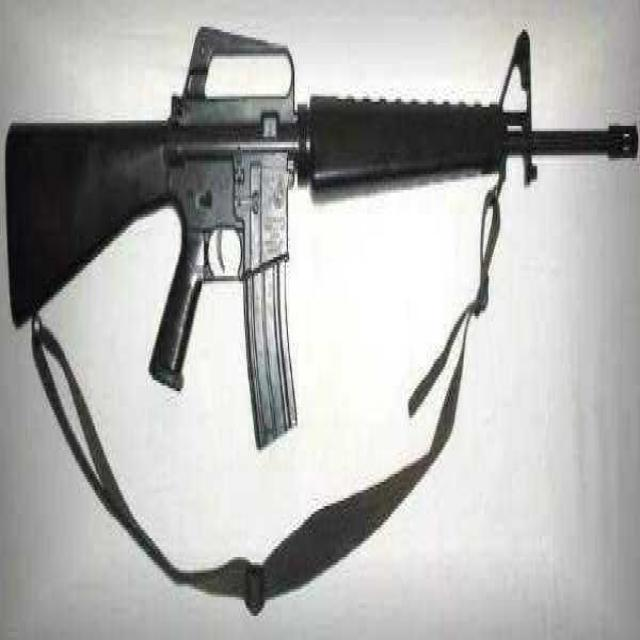weapon: (0, 14, 633, 452)
